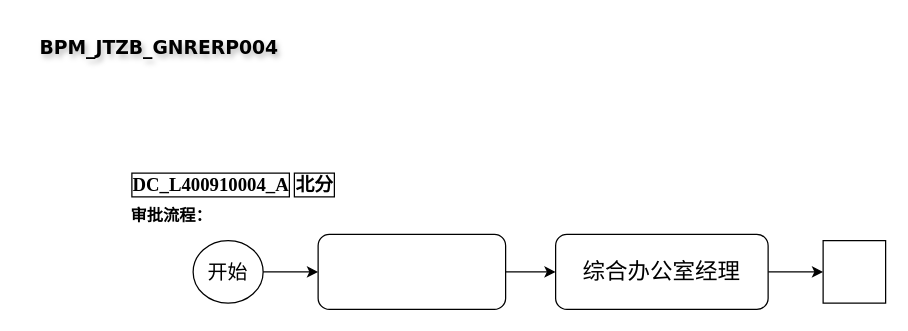
Some shapes in this 908 by 331 pixel diagram are drawn without their labels. Here are the shapes that lost their labels. From the top down, the box of each, then its label:
(317, 233, 506, 309): 财务部经理
(822, 239, 886, 303): 结束
